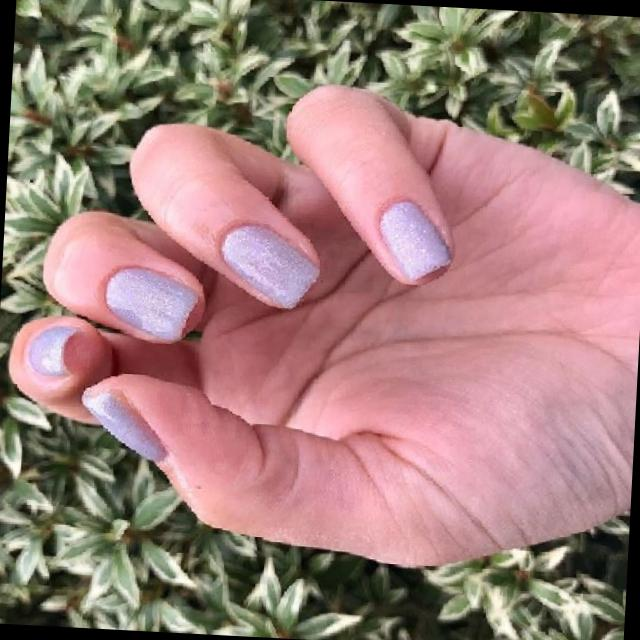Nail: (220, 222, 320, 309), (104, 266, 199, 343), (82, 387, 167, 462), (380, 201, 451, 282), (30, 325, 79, 375)
